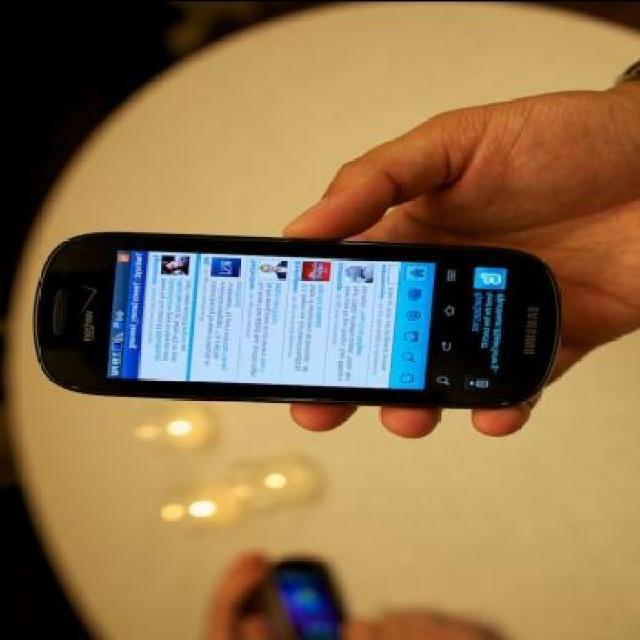phone: (20, 226, 571, 417)
